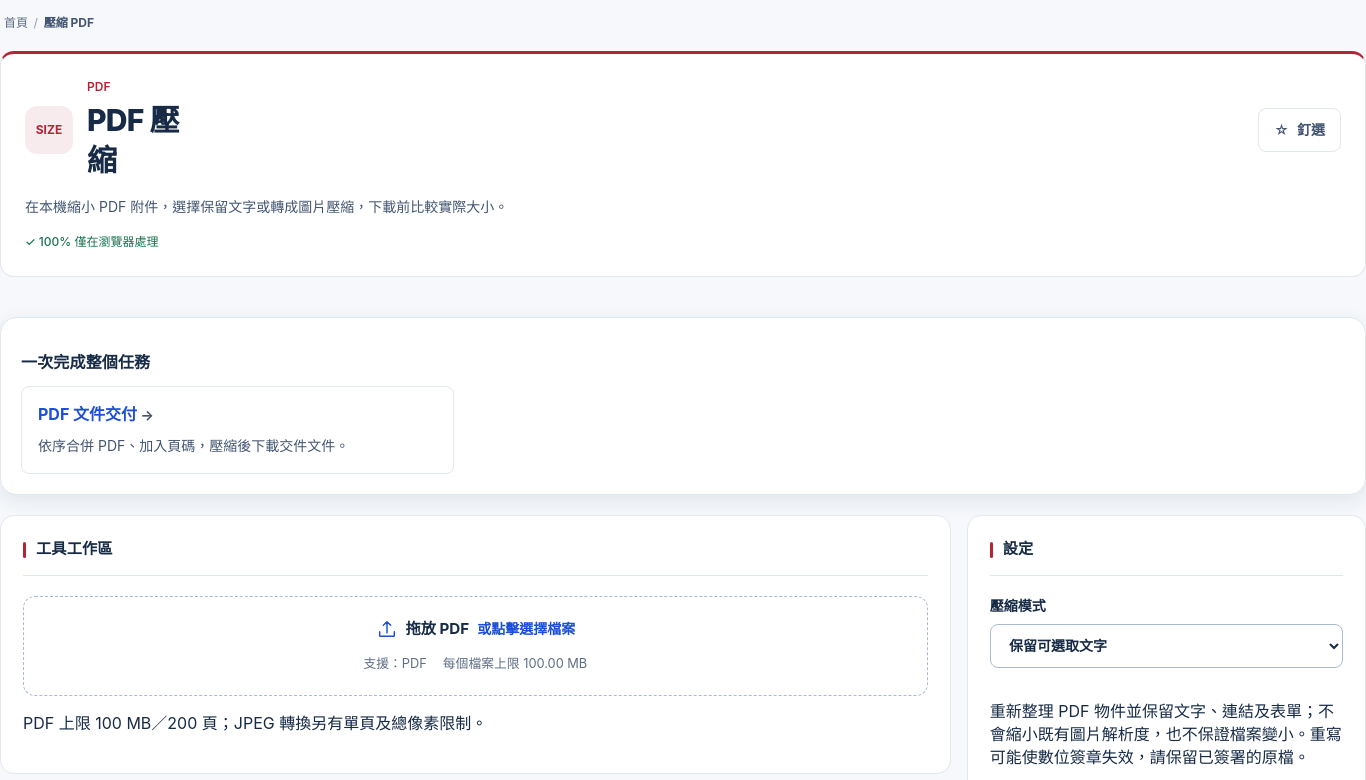
Scenario: PdfCompressPage › localizes the mode controls and raster warning in Traditional Chinese
The image size is (1366, 780).
Select "JPEG 頁面（有損）" in the dropdown labelled "壓縮模式" at [1166, 646], box [990, 624, 1343, 668]
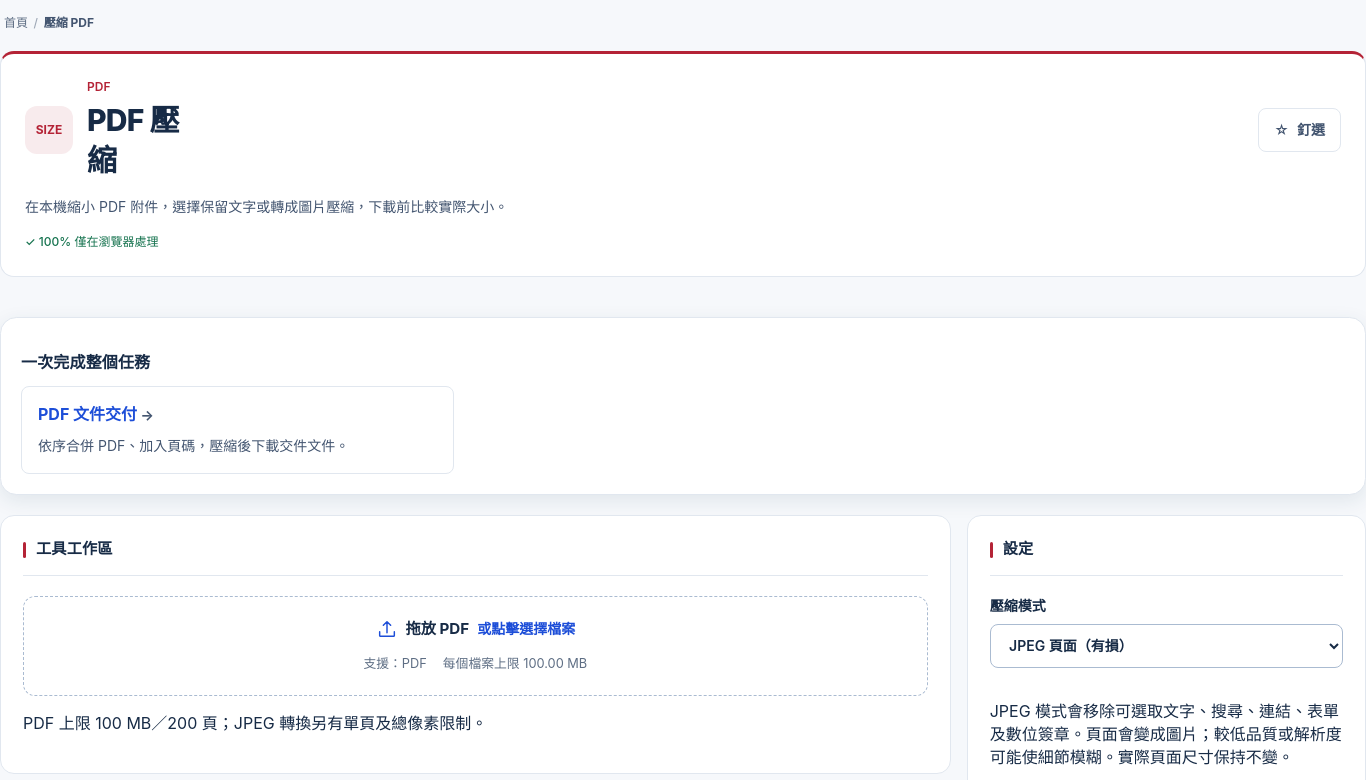
Expected: the text "JPEG 模式會移除可選取文字、搜尋、連結、表單及數位簽章" is shown, [990, 700, 1342, 767]
